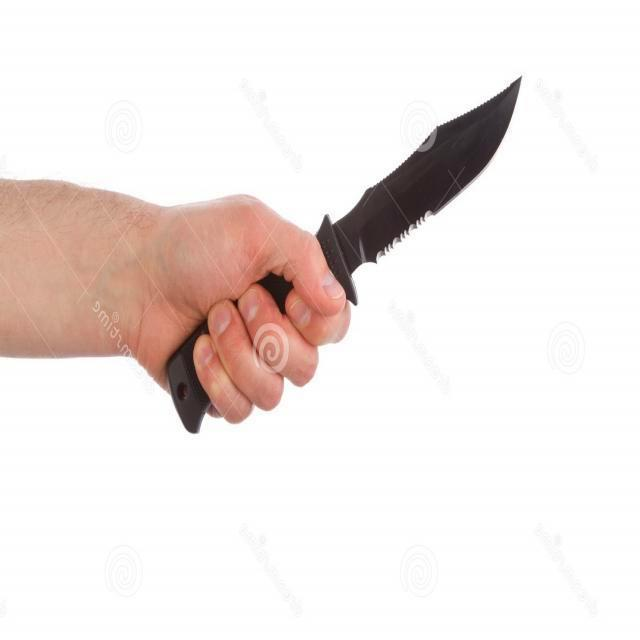Knife: (316, 79, 521, 303)
Knife_Handle: (138, 73, 554, 441)
